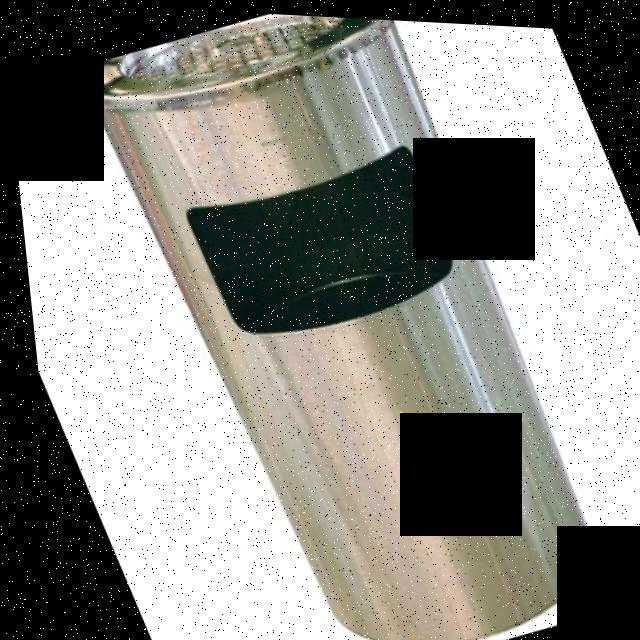bin: (41, 2, 640, 640)
